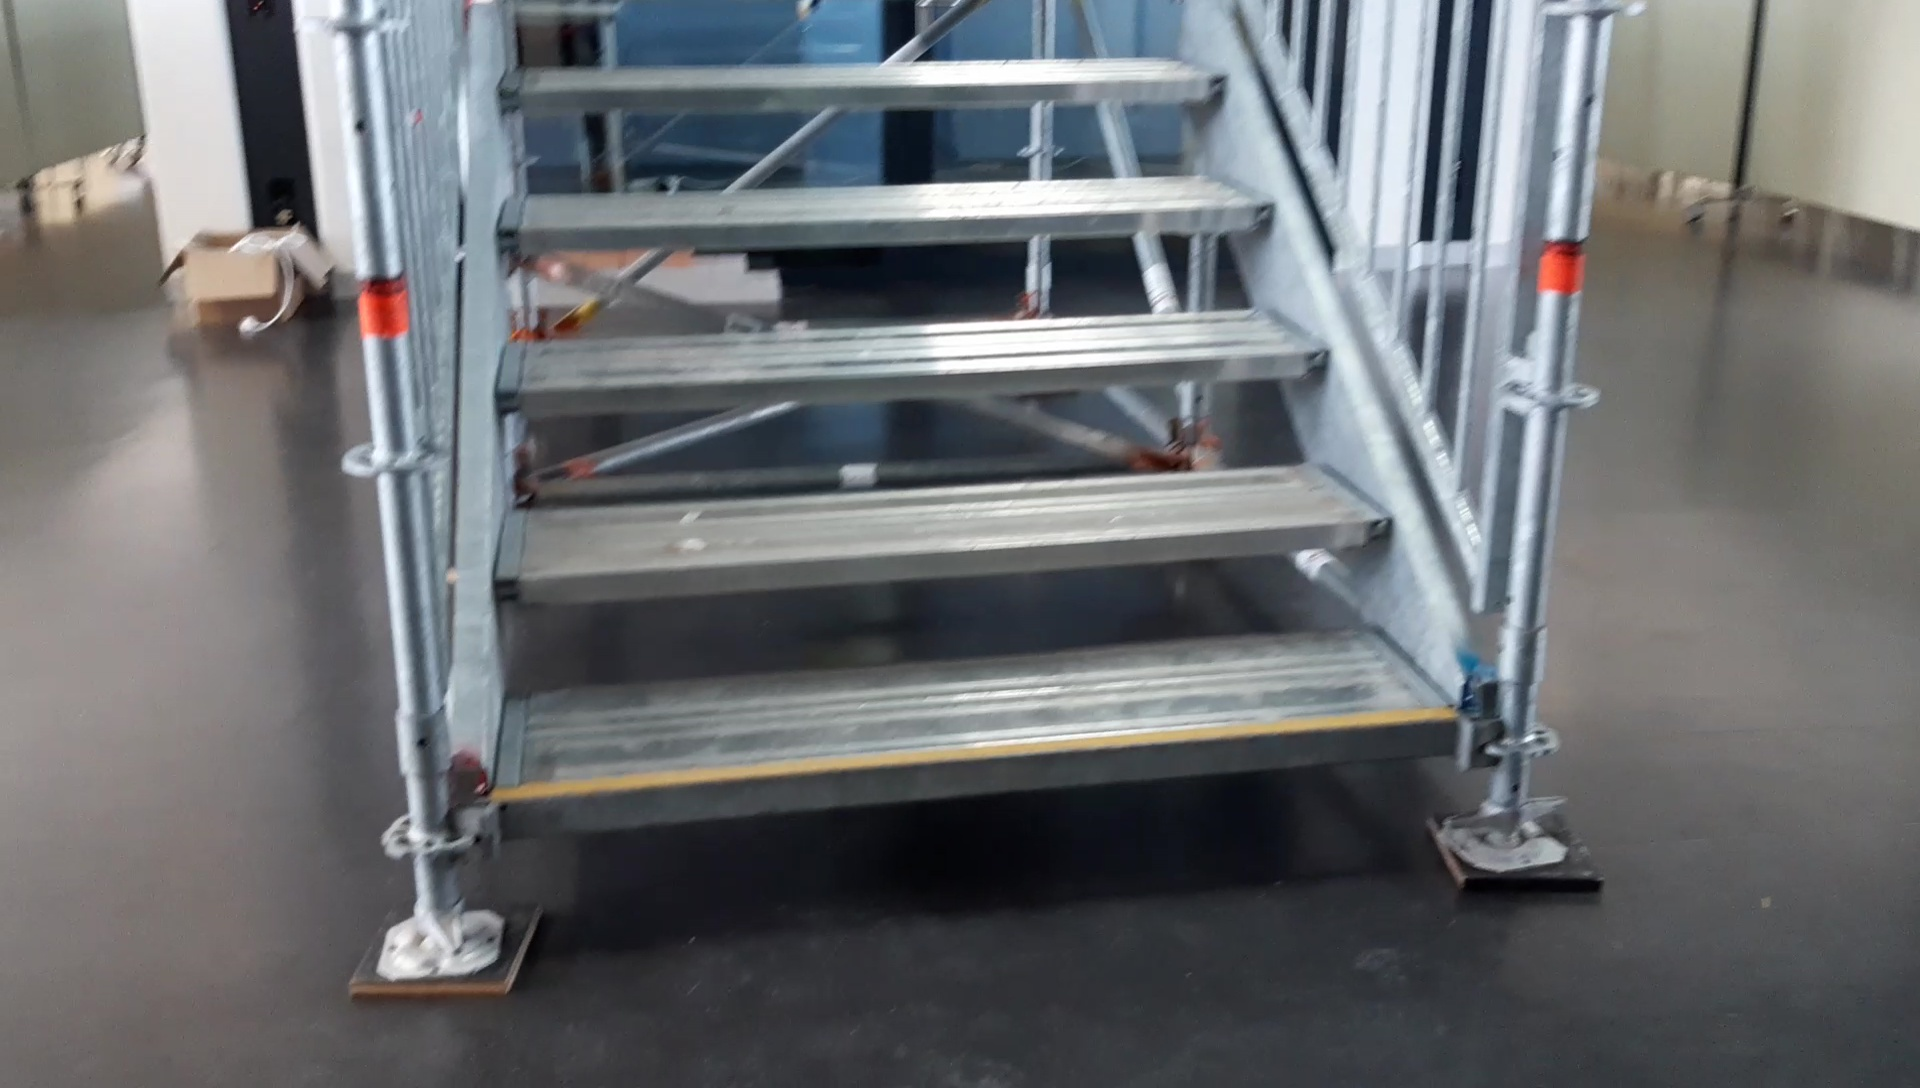brick: (746, 273, 778, 298), (712, 278, 745, 299), (717, 260, 745, 274)
edge: (500, 717, 1460, 837), (495, 516, 1393, 600), (496, 348, 1328, 413), (495, 200, 1278, 249), (495, 73, 1222, 108)
stairs: (301, 0, 1610, 1002)
